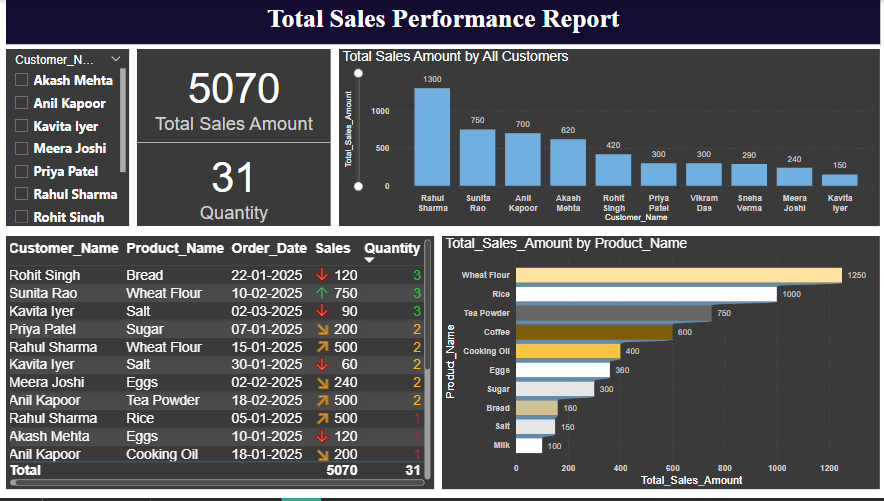

What the dashboard file says about the page in this screenshot:
{"tool":"powerbi","page":{"name":"Total Report","canvas":[1280,720],"ordinal":0},"visuals":[{"type":"slicer","fields":{"Values":["Customer_List.Customer_Name"]},"box":[9.9,70.9,178.1,255.7],"z":0},{"type":"card","fields":{"Values":["Sales_Table.Total_Sales_Amount"]},"box":[199.6,70.9,280.4,135.3],"z":1000},{"type":"card","fields":{"Values":["Sales_Table.Quantity"]},"box":[199.6,206.2,280.4,120.4],"z":2000},{"type":"clusteredColumnChart","fields":{"Y":["Sales_Table.Total_Sales_Amount"],"Category":["Customer_List.Customer_Name"]},"box":[491.5,70.9,781.9,255.7],"z":3000},{"type":"barChart","fields":{"Category":["Product_List.Product_Name"],"Y":["Sales_Table.Total_Sales_Amount"]},"box":[640,341.4,633.4,366.2],"z":4000},{"type":"tableEx","fields":{"Values":["Customer_List.Customer_Name","Product_List.Product_Name","Sales_Table.Order_Date","Sales_Table.Sales_Amount","Sales_Table.Quantity"]},"box":[9.9,341.4,618.6,366.2],"z":5000},{"type":"textbox","box":[9.9,0,1263.5,64.3],"z":6000}]}

Visuals, with their boxes in screenshot pixels (x1, y1, x2, y2), scaled from the page's 1280x720 canvas onto the 884x501 screenshot:
slicer - Customer_List.Customer_Name: region(7, 49, 130, 227)
card - Sales_Table.Total_Sales_Amount: region(138, 49, 332, 143)
card - Sales_Table.Quantity: region(138, 143, 332, 227)
clusteredColumnChart - Sales_Table.Total_Sales_Amount x Customer_List.Customer_Name: region(339, 49, 879, 227)
barChart - Product_List.Product_Name x Sales_Table.Total_Sales_Amount: region(442, 238, 879, 492)
tableEx - Customer_List.Customer_Name x Product_List.Product_Name: region(7, 238, 434, 492)
textbox: region(7, 0, 879, 45)
